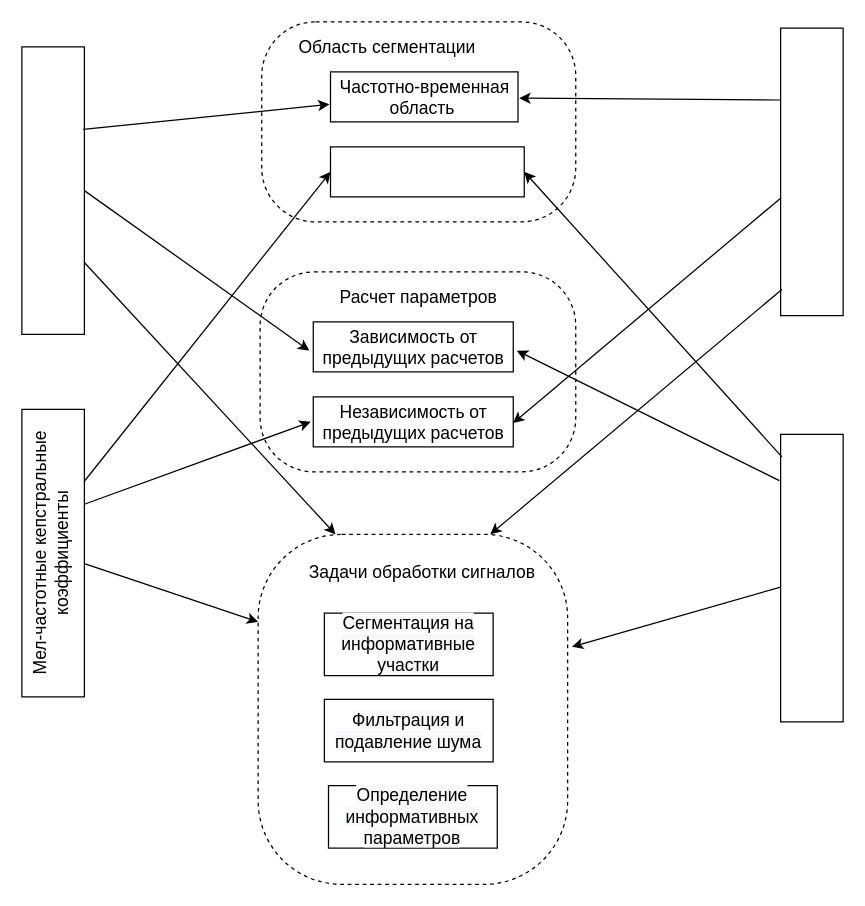
Image size: 865x906. Some labels were removed from this diagram. The centre of each missing label's shape, as x and y in pixels:
"Дискретное вейвлет-преобразование" belongs at point 811,171.
"Кепстральные коэффициенты на основе линейного предсказания" belongs at point 811,577.
"Линейно-предсказывающее кодирование" belongs at point 52,190.
"Частотная область" belongs at point 426,171.
